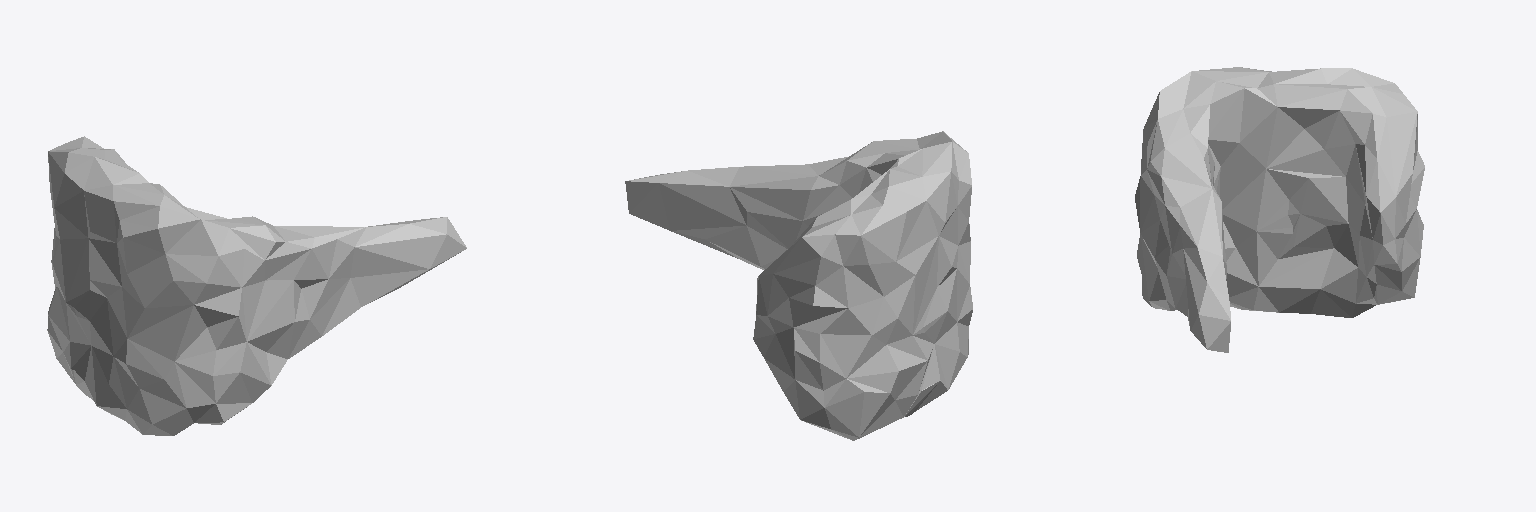
The model's file is peg3D_lowpoly.obj.
3 views of the same model, side by side, from view 1: azimuth 30°, elevation 25°; view 2: azimuth 150°, elevation 25°; view 3: azimuth 270°, elevation 25° (orthographic).
Visible parts, largest first — view 1: Peg_peg; view 2: Peg_peg; view 3: Peg_peg.
Part boxes in pixels (left/top/right/bottom): Peg_peg: left=47, top=136, right=466, bottom=435; Peg_peg: left=625, top=131, right=972, bottom=440; Peg_peg: left=1135, top=67, right=1424, bottom=352.
Size of the model in its own units: 0.5479 by 0.3553 by 0.3945.